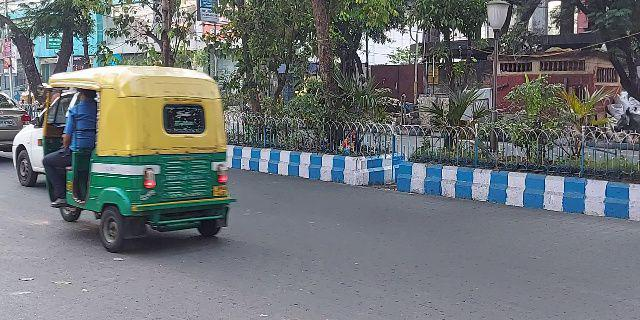Autorickshaw: (42, 64, 235, 255)
Car: (11, 98, 43, 194)
